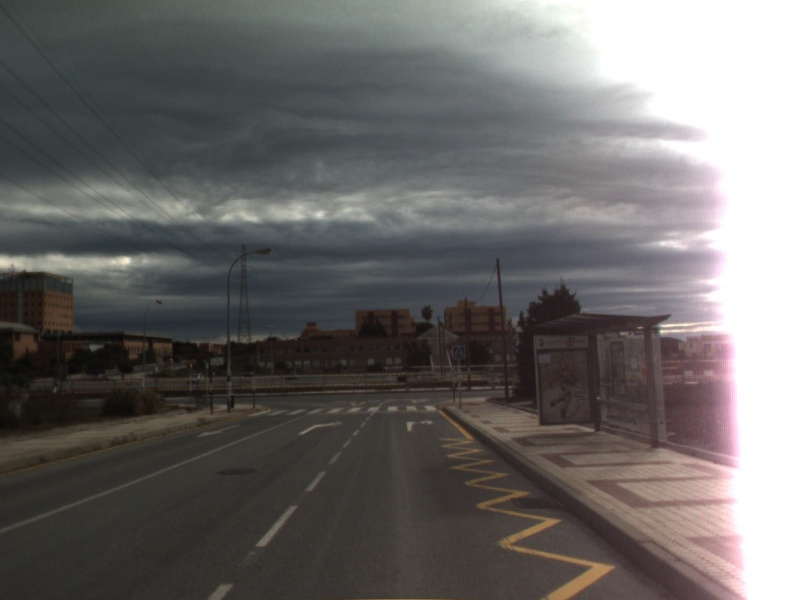RIGHT: (296, 418, 344, 437), (404, 417, 437, 434)
